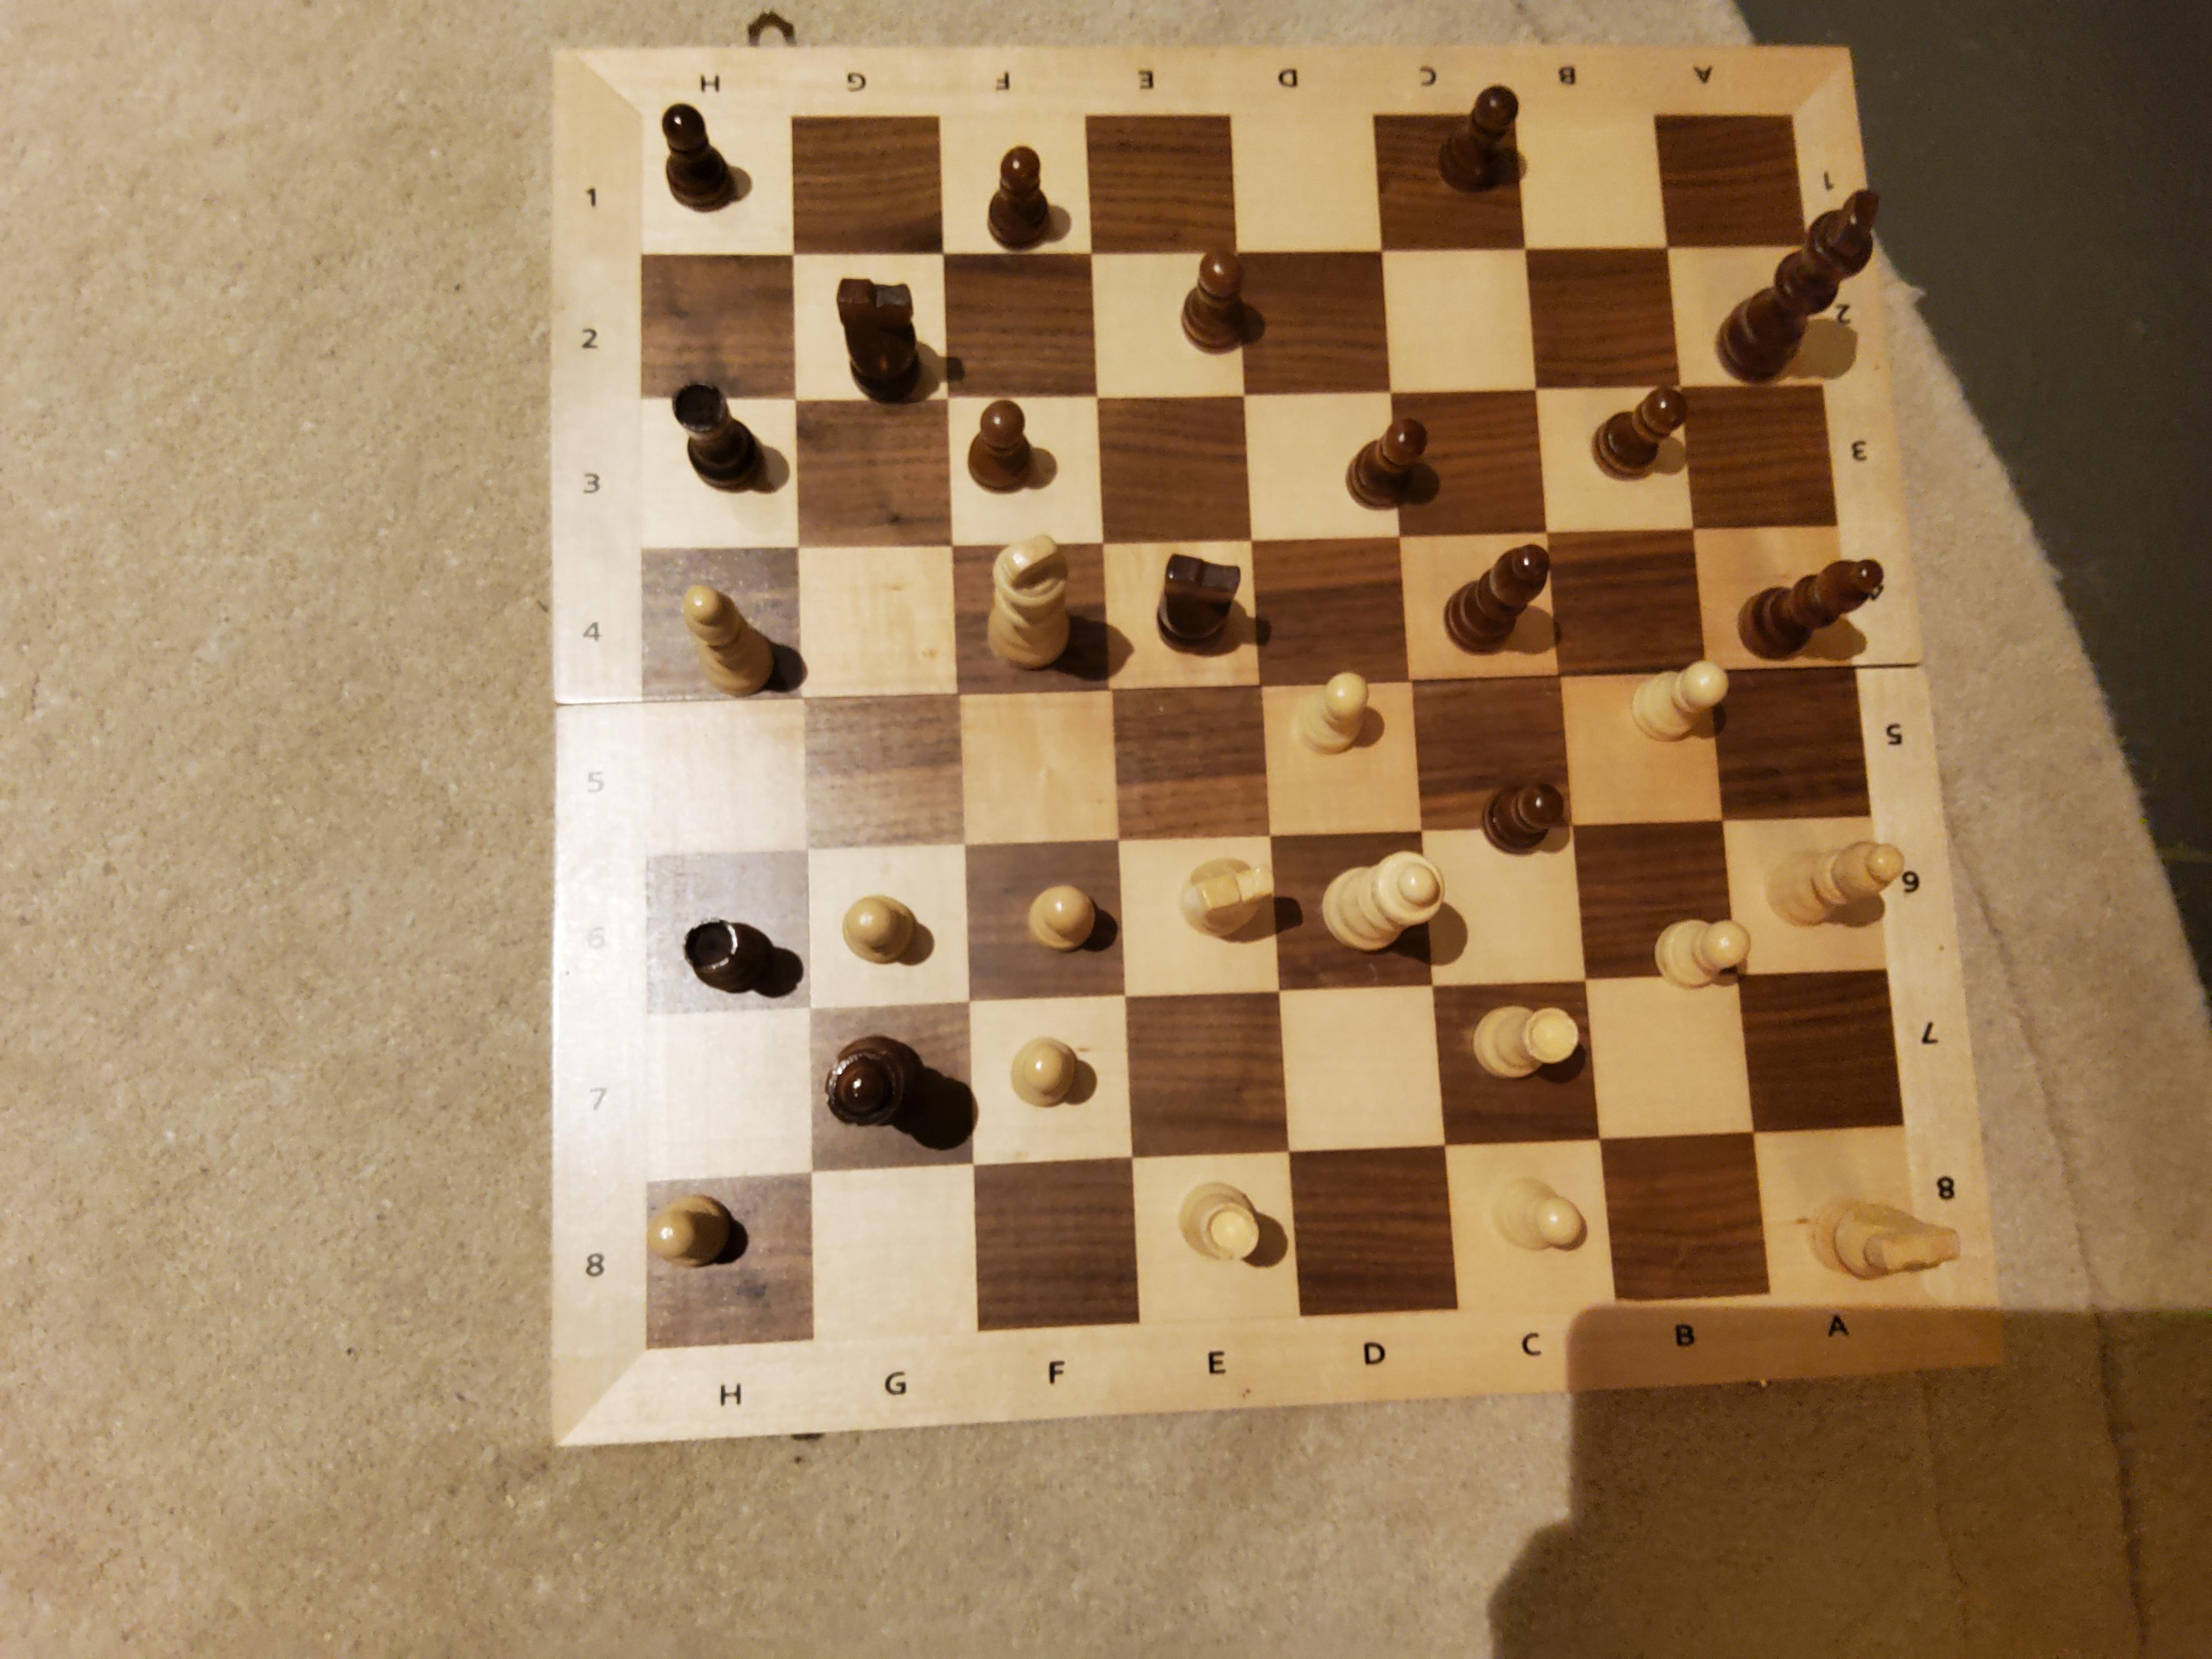schaak: (528, 44, 2017, 1441), (1721, 176, 1907, 385), (1721, 547, 1897, 659), (1761, 831, 1916, 946), (1437, 525, 1564, 657), (1803, 1185, 1972, 1283), (820, 260, 941, 389), (975, 519, 1076, 669), (1318, 836, 1444, 953), (662, 369, 775, 488), (671, 579, 782, 697), (812, 1023, 930, 1131), (643, 91, 747, 206), (1170, 244, 1268, 355), (1482, 1166, 1597, 1260), (1594, 378, 1698, 479), (1468, 986, 1568, 1093), (1174, 843, 1278, 943), (1420, 84, 1522, 179), (641, 1187, 745, 1277), (1355, 404, 1437, 518), (1158, 552, 1254, 647), (1174, 1173, 1268, 1265), (1637, 653, 1728, 749), (981, 129, 1055, 239), (1653, 896, 1743, 983), (967, 390, 1045, 488), (671, 906, 756, 988), (1285, 669, 1372, 744), (1482, 779, 1568, 852), (845, 889, 916, 958), (1012, 1033, 1076, 1107), (1029, 889, 1096, 948)
